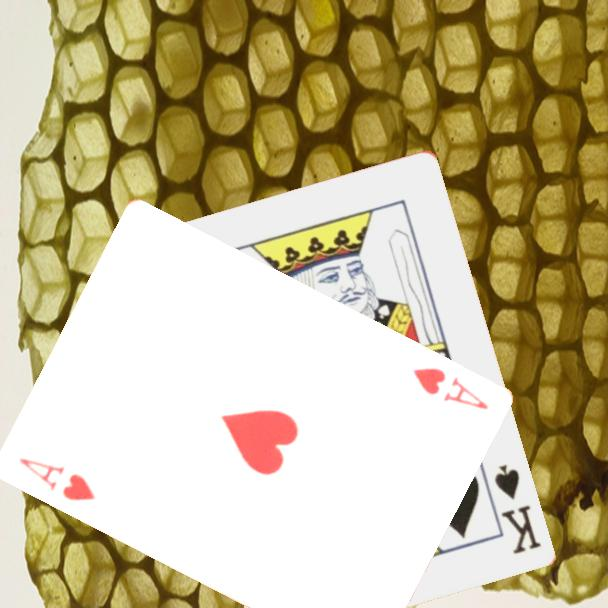h01: (15, 454, 97, 504), (409, 364, 491, 413)
s13: (490, 460, 543, 557)
